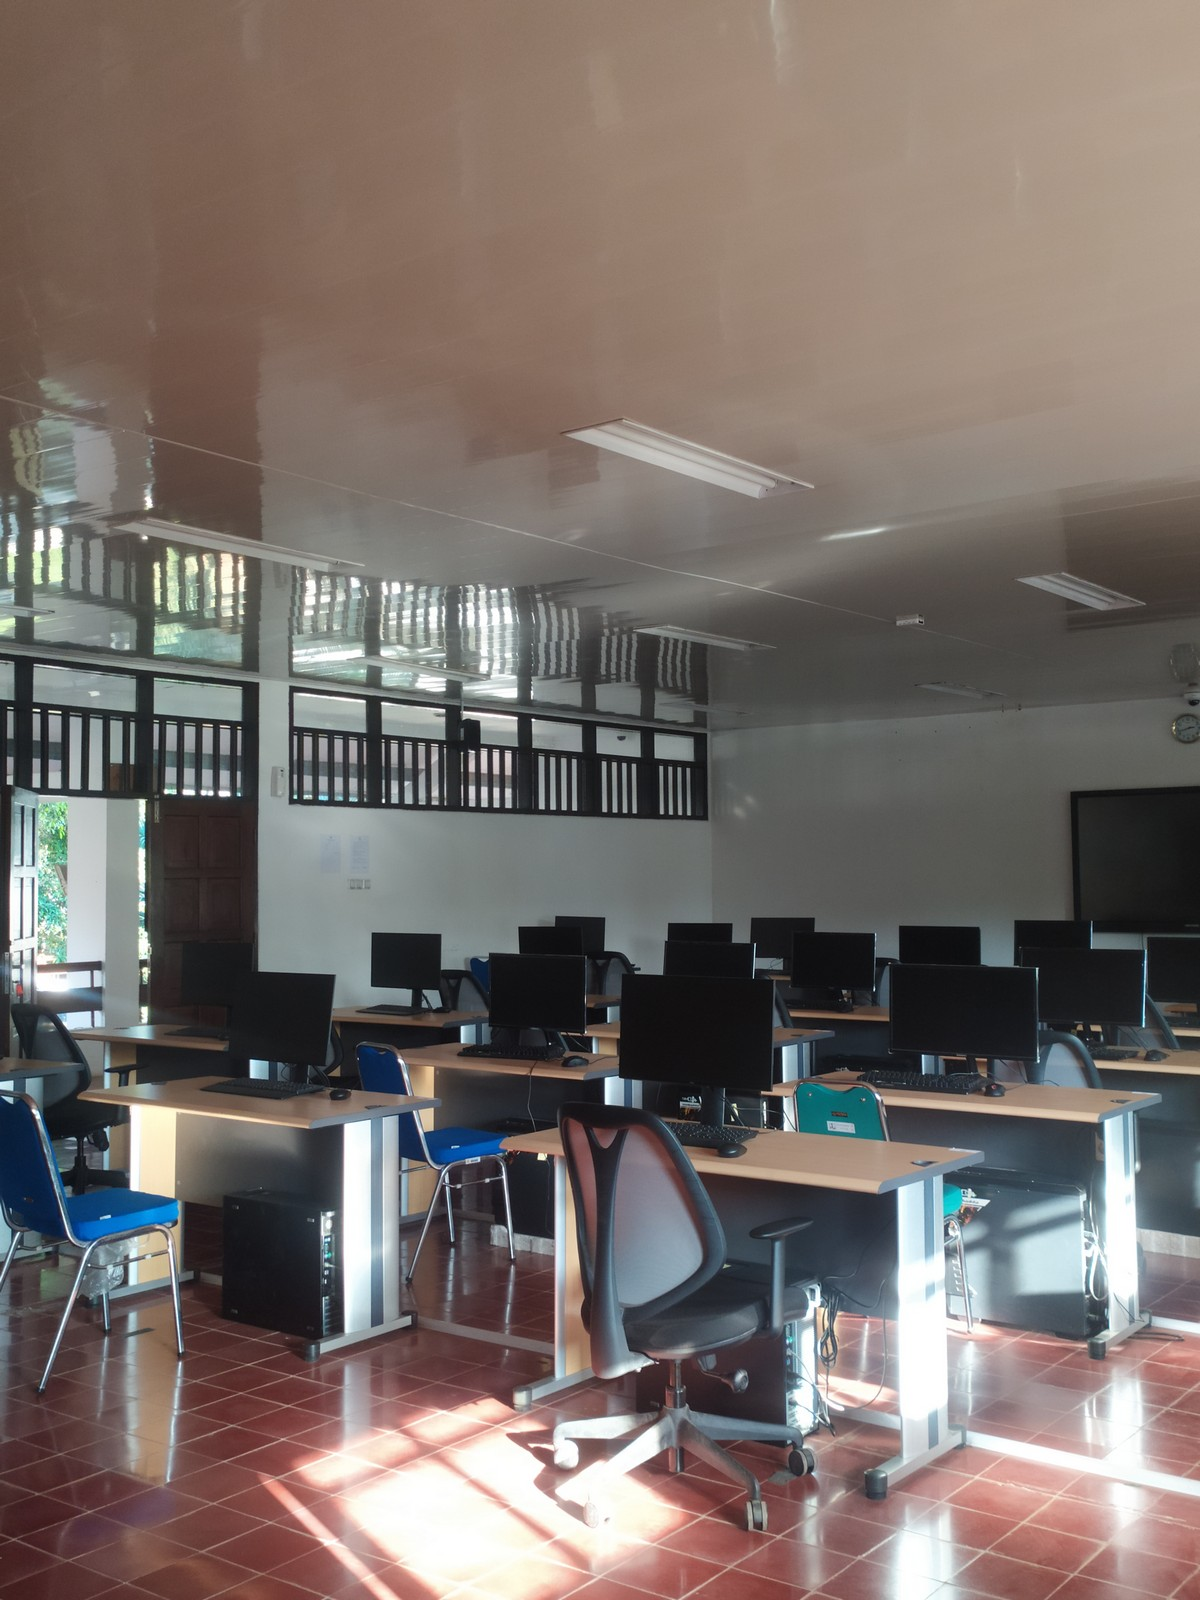concrete column: (61, 808, 139, 1022)
